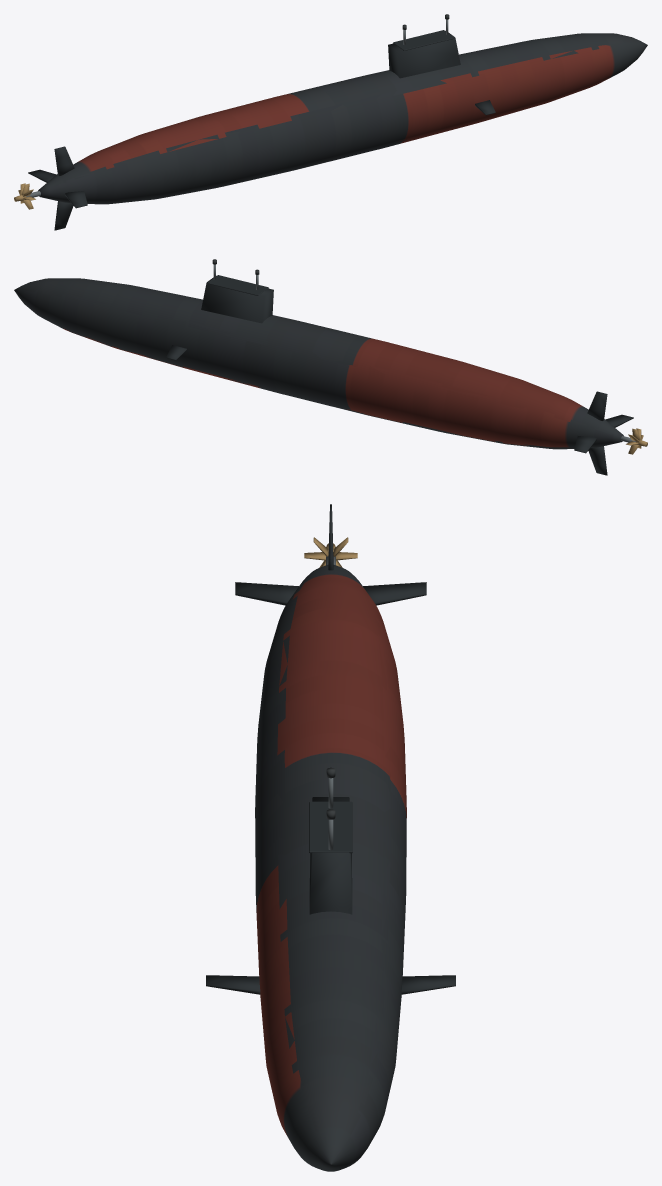
File: RU_SSN_Victor_LOD1.fbx
3 views of the same model, one above another, from view 1: azimuth 30°, elevation 25°; view 2: azimuth 150°, elevation 25°; view 3: azimuth 270°, elevation 25° (orthographic). The views are drawn at different scales.
Visible parts, largest first — view 1: RU_SSN_Victor_LOD1; view 2: RU_SSN_Victor_LOD1; view 3: RU_SSN_Victor_LOD1.
Part boxes in pixels (x1=…): RU_SSN_Victor_LOD1: x1=14, y1=14, x2=647, y2=230; RU_SSN_Victor_LOD1: x1=14, y1=259, x2=647, y2=475; RU_SSN_Victor_LOD1: x1=206, y1=504, x2=455, y2=1171.
Bounding box in the file's own units: 96.25 × 16.48 × 17.36.
6 materials, 1 textured.
